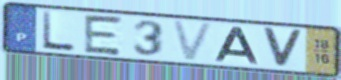3: (131, 19, 167, 58)
A: (213, 26, 262, 67)
E: (81, 13, 126, 58)
L: (41, 9, 78, 53)
V: (170, 18, 217, 63), (260, 26, 305, 70)
